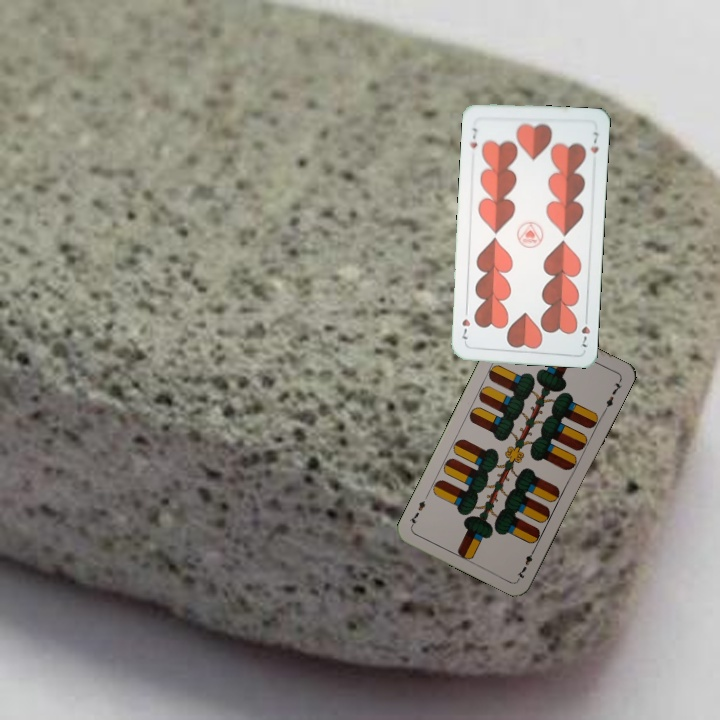E7: (513, 544, 538, 582)
H7: (578, 311, 593, 350), (465, 123, 480, 151)
